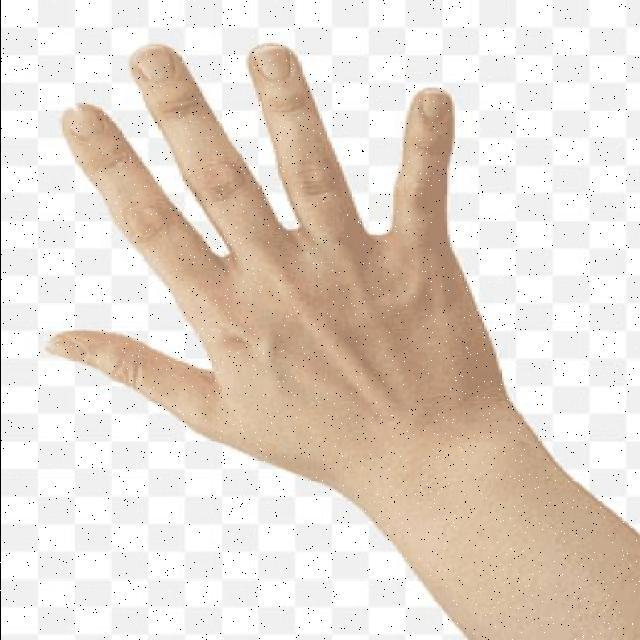no_apron: (39, 21, 526, 482)
